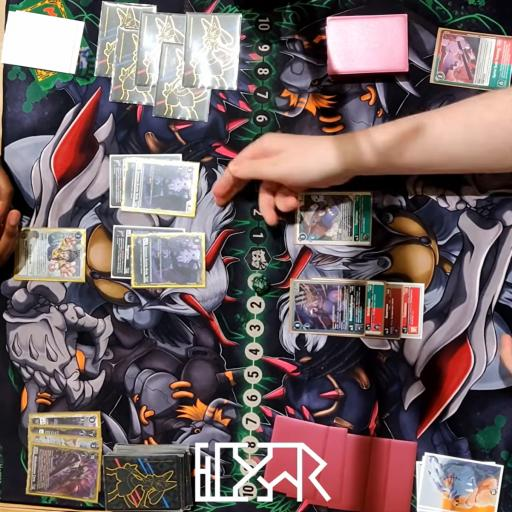card: (426, 28, 512, 90), (121, 160, 204, 214), (296, 192, 373, 246), (129, 234, 206, 287), (108, 152, 182, 207), (292, 282, 368, 333), (12, 230, 88, 280), (112, 228, 188, 278), (28, 449, 101, 498), (400, 279, 426, 340), (26, 410, 104, 428), (362, 282, 387, 338), (31, 435, 105, 453), (385, 282, 403, 341), (29, 427, 101, 439)
